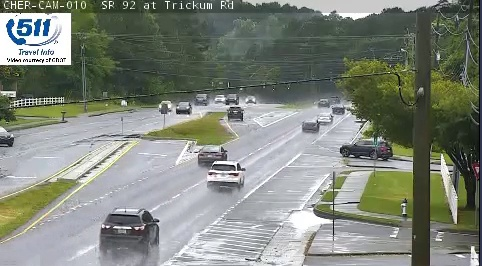car: (100, 209, 159, 249), (207, 160, 243, 186), (197, 145, 228, 165), (302, 119, 319, 132), (227, 106, 243, 119), (316, 112, 332, 123)
